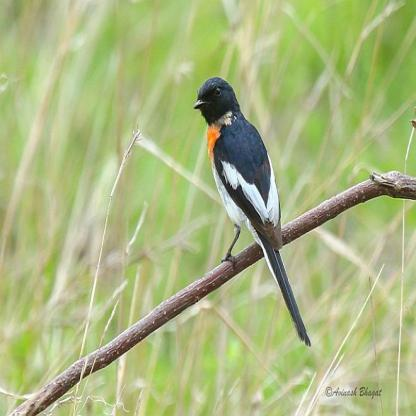Burung: (194, 76, 310, 346)
